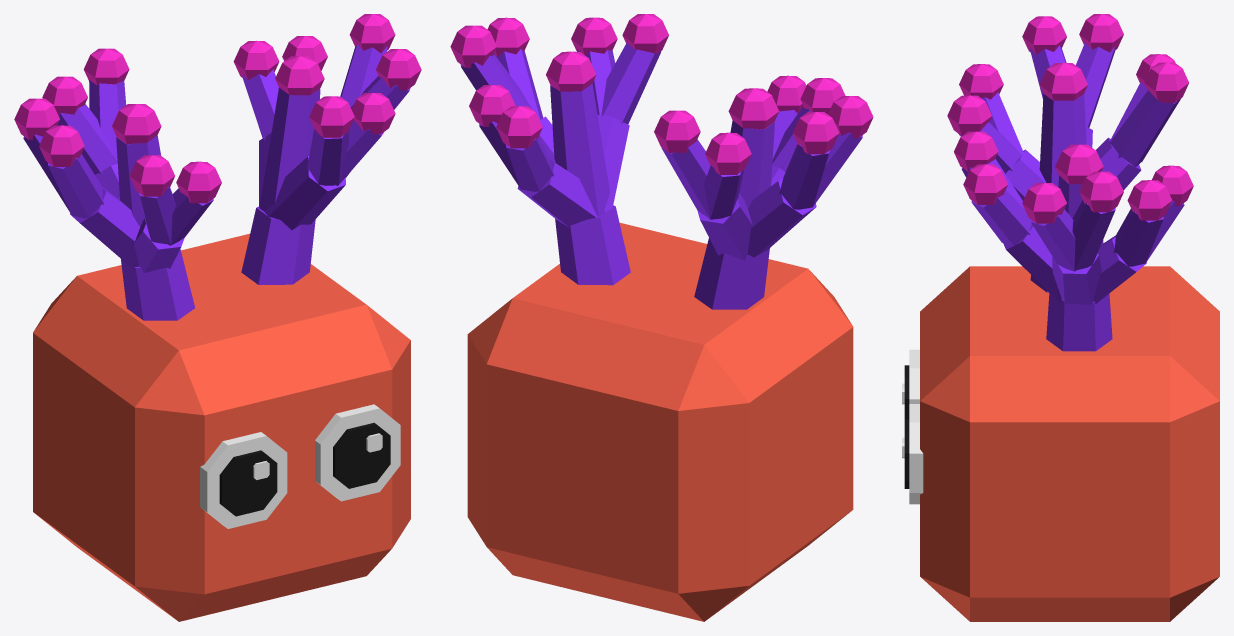
File: Reefy.fbx
3 renders of one model, left to right at view 1: azimuth 30°, elevation 25°; view 2: azimuth 150°, elevation 25°; view 3: azimuth 270°, elevation 25°, orthographic. The views are drawn at different scales.
Visible parts, largest first — view 1: Reefy, Reefy_Coral, Reefy_Tips, Reefy_Eyes, Reefy_Pupils; view 2: Reefy, Reefy_Coral, Reefy_Tips; view 3: Reefy, Reefy_Coral, Reefy_Tips, Reefy_Eyes, Reefy_Pupils.
Part boxes in pixels (<box>): Reefy: <box>33,233,410,621</box>; Reefy_Coral: <box>23,44,410,320</box>; Reefy_Tips: <box>14,14,421,203</box>; Reefy_Eyes: <box>200,404,400,528</box>; Reefy_Pupils: <box>219,422,390,516</box>; Reefy: <box>467,223,853,621</box>; Reefy_Coral: <box>460,43,862,309</box>; Reefy_Tips: <box>450,14,873,174</box>; Reefy: <box>920,266,1219,621</box>; Reefy_Coral: <box>958,42,1184,351</box>; Reefy_Tips: <box>947,14,1193,223</box>; Reefy_Eyes: <box>902,349,923,504</box>; Reefy_Pupils: <box>904,365,909,488</box>.
Size of the model in its own units: 2.71 by 3.43 by 2.04.
